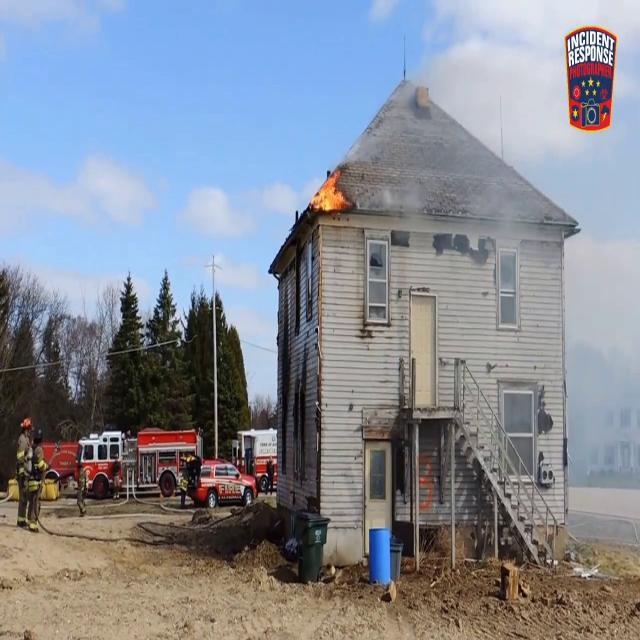Fire: (308, 162, 348, 216)
Smoke: (403, 6, 640, 245), (562, 206, 638, 509)
